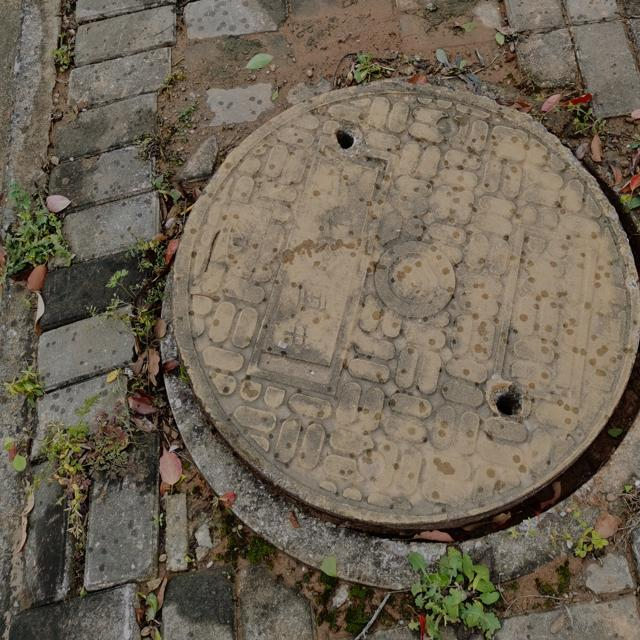uncovered: (158, 75, 640, 595)
